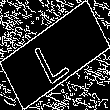L_NW: (33, 25, 77, 85)
